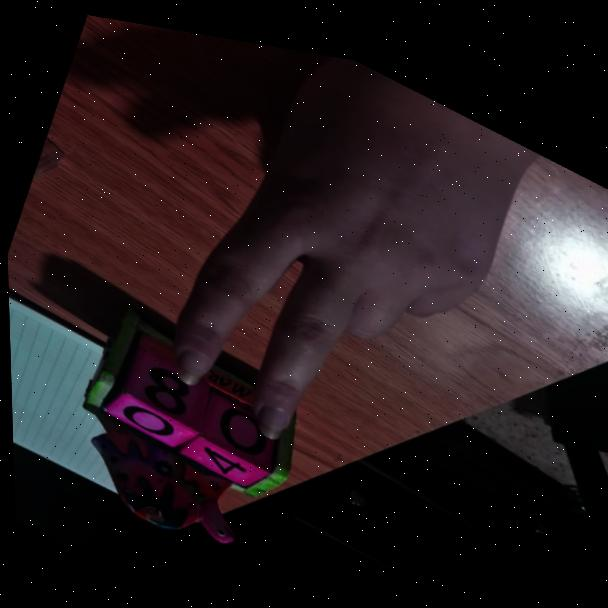two: (131, 18, 530, 521)
